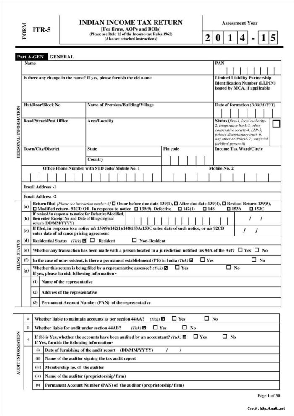checkbox: (272, 119, 281, 129), (172, 200, 179, 207), (237, 246, 244, 253), (152, 323, 159, 330), (131, 237, 138, 243), (110, 200, 117, 206), (177, 205, 183, 212), (201, 205, 208, 211), (225, 205, 232, 211), (31, 205, 37, 212), (199, 256, 206, 262), (225, 264, 232, 270), (171, 315, 178, 321), (181, 324, 188, 330), (89, 237, 95, 243), (133, 205, 139, 211), (221, 201, 227, 207), (248, 205, 254, 211), (254, 246, 260, 252), (251, 256, 257, 262), (174, 264, 180, 270), (204, 315, 210, 321), (222, 333, 228, 339), (193, 333, 199, 339)
textbox: (20, 73, 215, 103), (84, 116, 215, 147), (21, 58, 215, 77), (20, 180, 283, 193), (20, 189, 282, 202), (41, 360, 281, 374), (38, 275, 282, 288), (38, 285, 282, 298), (38, 295, 282, 308), (42, 370, 281, 382), (42, 378, 281, 390), (20, 163, 163, 183), (42, 352, 280, 364), (159, 164, 283, 183), (85, 101, 215, 119), (20, 116, 86, 147), (124, 210, 236, 226), (212, 144, 283, 167), (20, 143, 87, 166), (153, 344, 281, 355), (212, 100, 283, 119), (159, 143, 215, 167), (20, 100, 87, 119), (212, 59, 283, 76), (83, 144, 163, 157), (85, 154, 164, 166), (233, 210, 283, 226), (233, 224, 283, 237)
textline: (114, 340, 281, 347)
